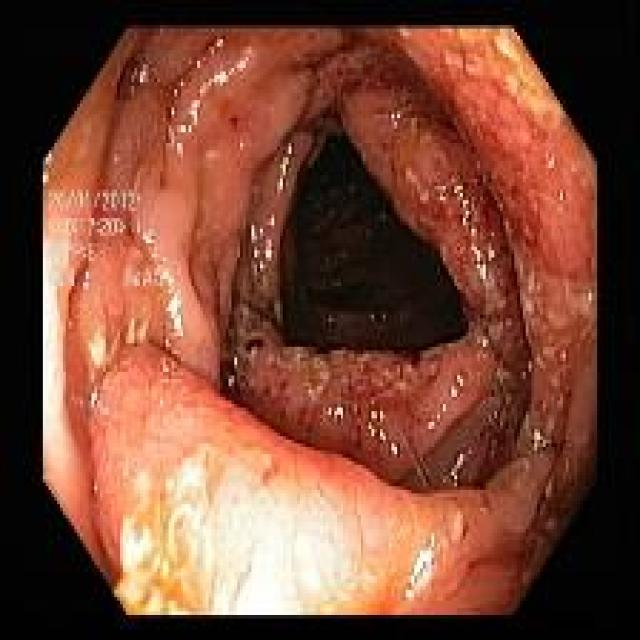ulcerative-colitis: (45, 28, 596, 614)
